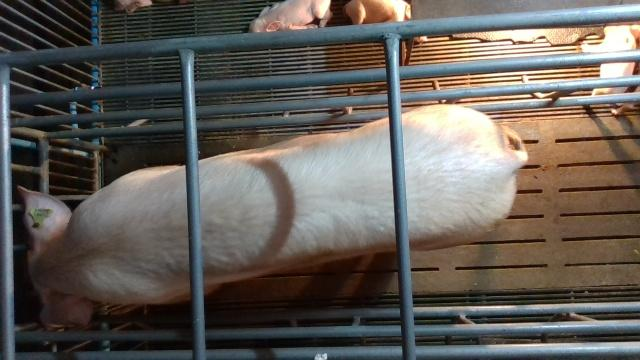piglet: (583, 24, 636, 97), (344, 0, 428, 43), (249, 0, 333, 32)
sow-stand-feed: (19, 102, 529, 328)
